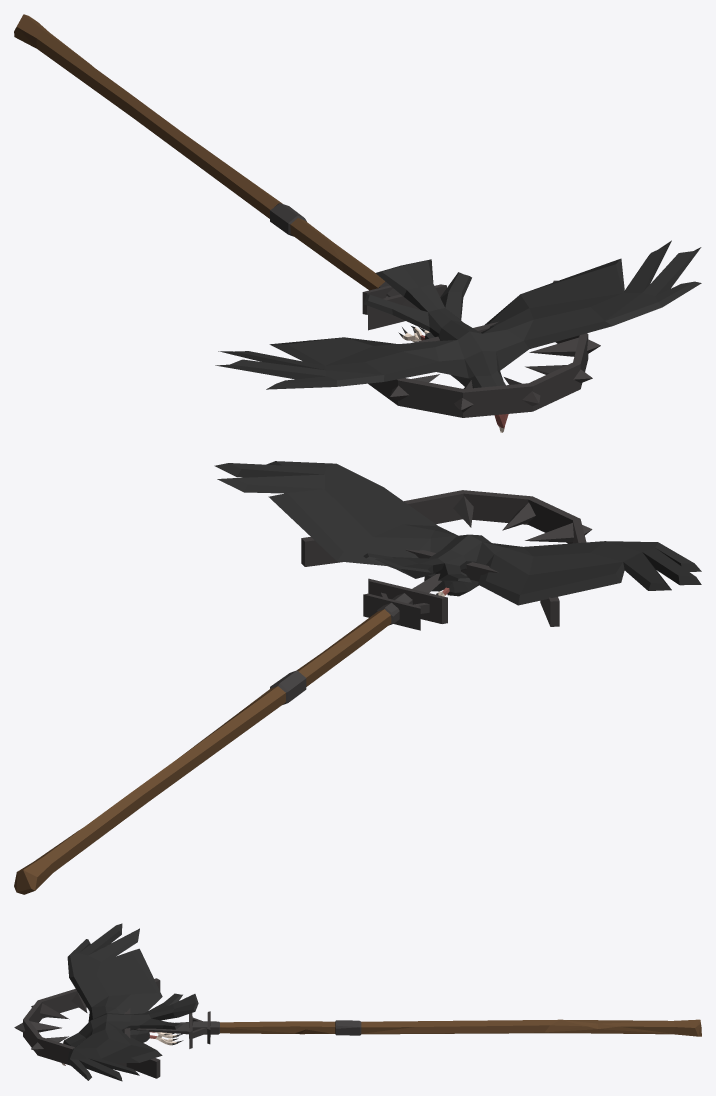
File: SM_Staff_Orc.fbx
3 renders of one model, top to bottom at view 1: azimuth 30°, elevation 25°; view 2: azimuth 150°, elevation 25°; view 3: azimuth 270°, elevation 25°, orthographic. The views are drawn at different scales.
Parts seen in each view (by area): view 1: SM_Staff_Orc; view 2: SM_Staff_Orc; view 3: SM_Staff_Orc.
Boxes of the visible parts, left/top/right/bottom form: SM_Staff_Orc: left=14, top=14, right=701, bottom=432; SM_Staff_Orc: left=14, top=461, right=701, bottom=894; SM_Staff_Orc: left=14, top=923, right=701, bottom=1081.
Bounding box in the file's own units: 1.74 × 0.3341 × 3.21.
